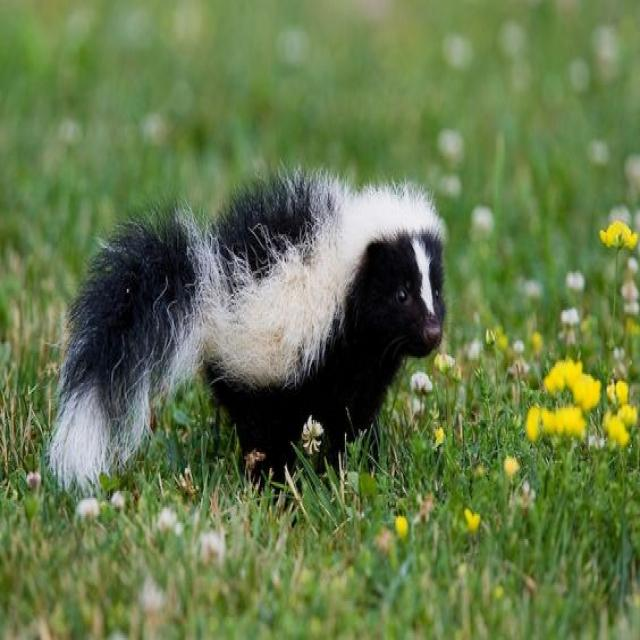Skunk: (41, 154, 463, 494)
